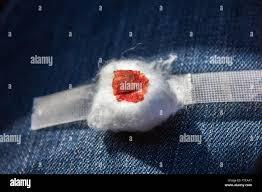cotton: (0, 0, 261, 173), (31, 54, 261, 130), (31, 55, 180, 130), (87, 60, 178, 131), (168, 70, 261, 104), (31, 84, 95, 129), (182, 70, 261, 104), (112, 70, 148, 102), (167, 74, 192, 106), (149, 53, 176, 75), (0, 133, 20, 144), (10, 178, 30, 187)
